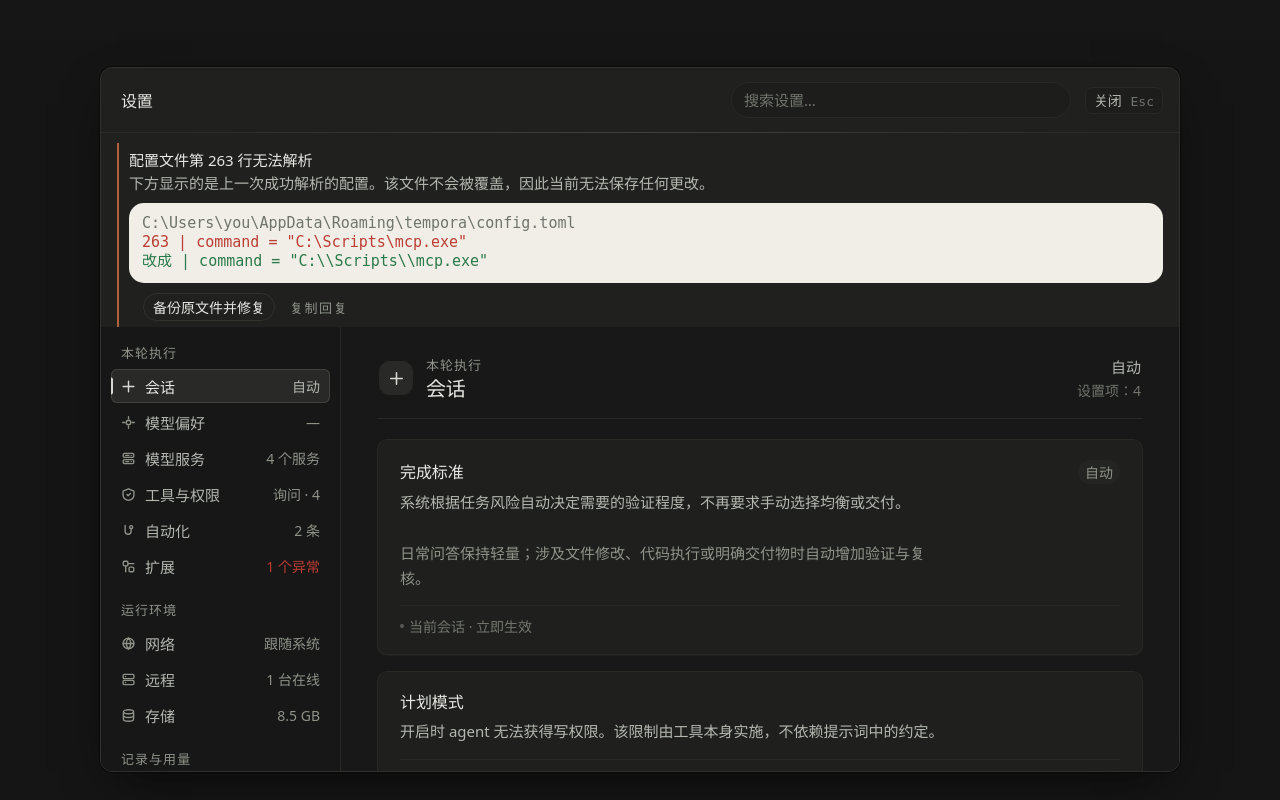
Scenario: finding a setting › does not open that page to find it
This screenshot has width=1280, height=800.
Type "代理" into the field labelled "搜索设置" at (901, 100), box [731,82,1071,118]
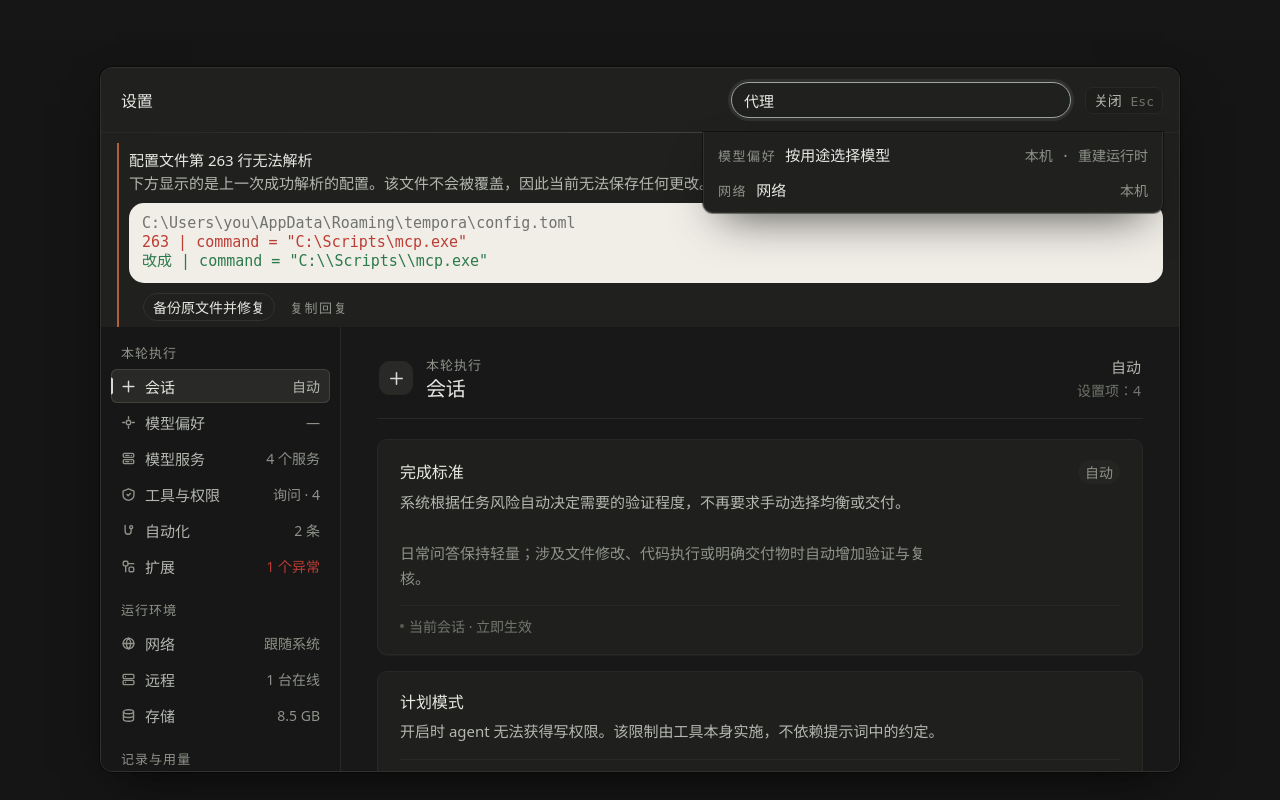
expect the option "网络 网络 本机" is shown: met, box [709,172,1157,207]
